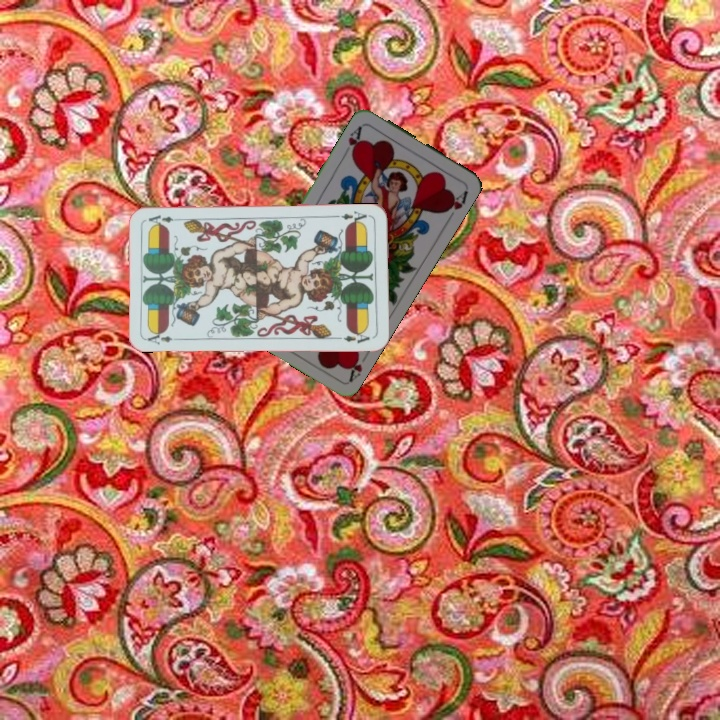EA: (332, 207, 372, 226), (144, 328, 184, 347)
HA: (343, 346, 372, 383), (344, 122, 364, 159)
